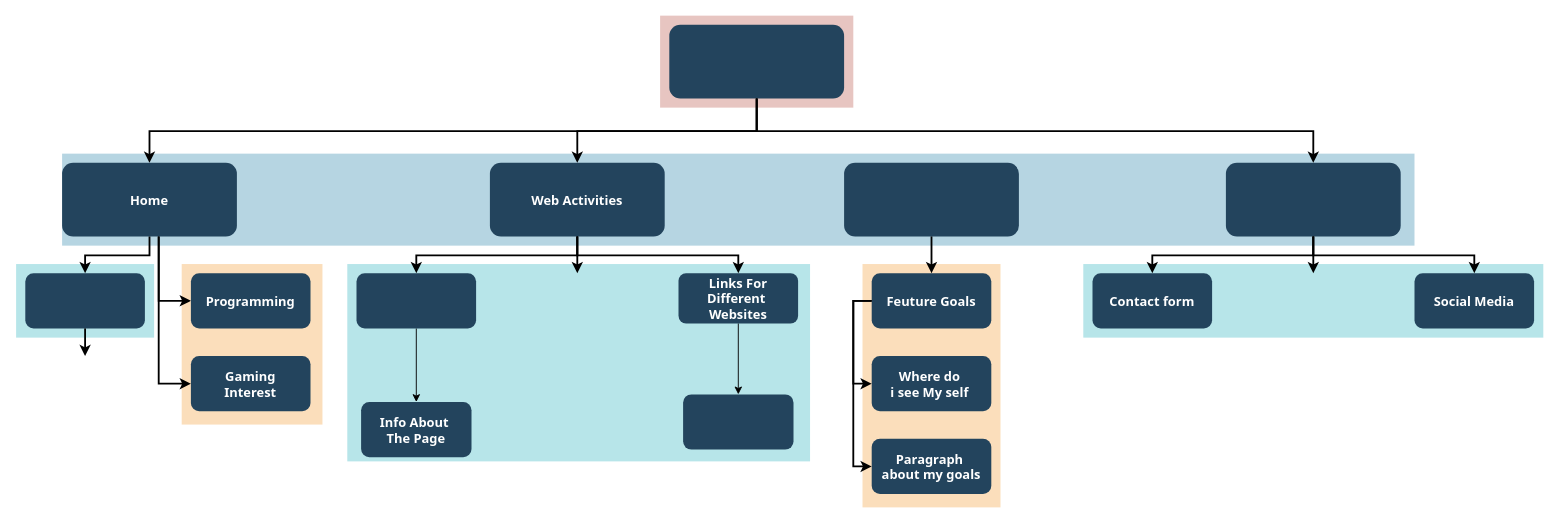
The diagram is 1558 pixels wide and 523 high, and some of its shapes have lost their labels. Each missing label, with the centre of its shape:
About Mohammes Alazzawi: (x=84, y=300)
Carrer Goals: (x=931, y=199)
Contact me: (x=1312, y=199)
Explore: (x=416, y=300)
Links: (x=738, y=421)
Mohammed Alazzawi ePortfolio: (x=756, y=61)
